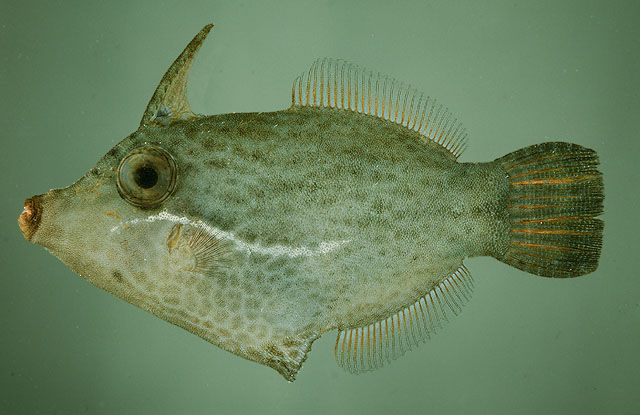fish: (16, 23, 608, 383)
